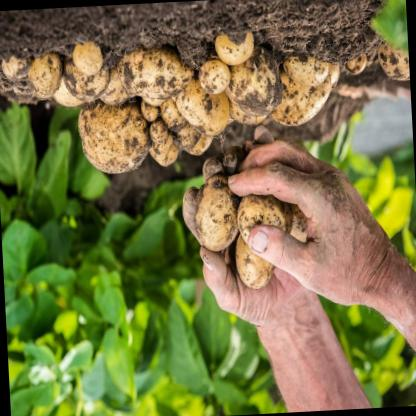potato: (76, 92, 152, 178), (215, 36, 285, 121), (264, 52, 334, 128), (114, 39, 195, 100), (171, 66, 232, 139), (236, 184, 295, 254), (192, 170, 240, 254), (233, 216, 282, 292), (23, 44, 63, 102), (282, 42, 330, 88), (376, 30, 410, 83), (214, 26, 256, 68)
